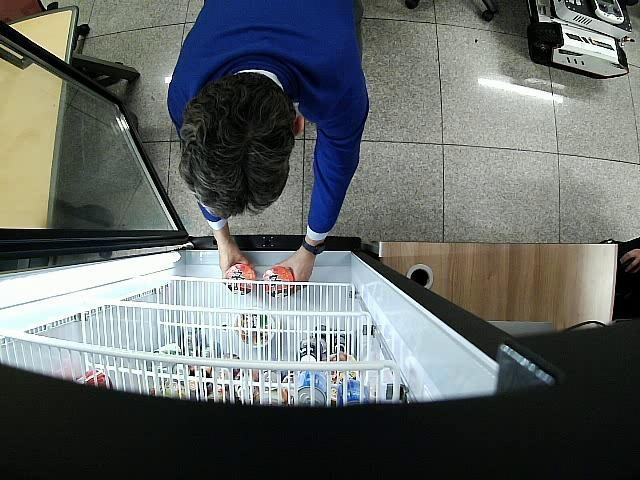02_shinRamen_S: (263, 266, 295, 296), (226, 265, 255, 294)
